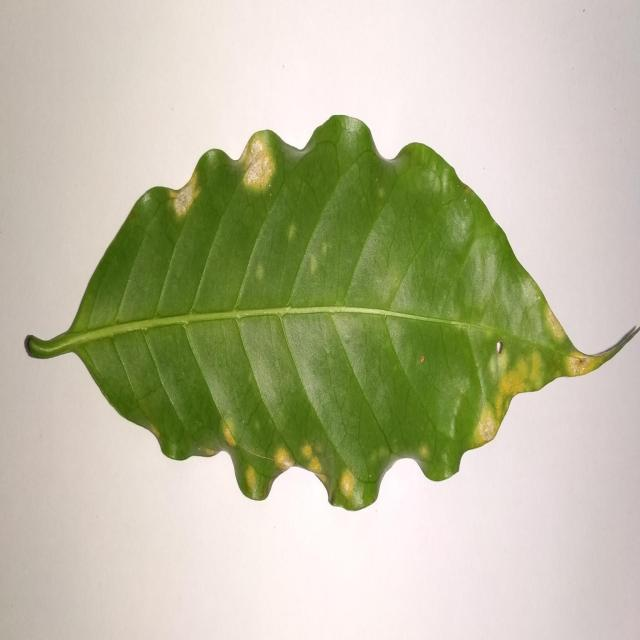rust: (544, 301, 612, 376), (238, 131, 284, 198), (472, 374, 513, 448), (274, 444, 329, 496), (166, 165, 208, 222), (331, 464, 357, 508)
